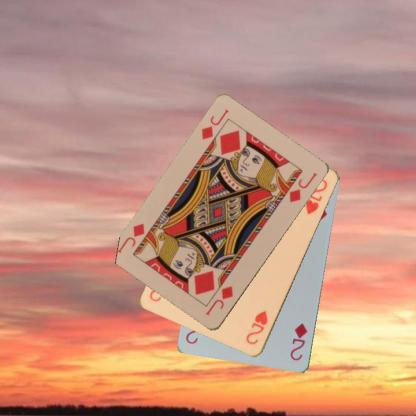2d: (288, 321, 309, 362)
2h: (243, 309, 269, 346)
Jd: (202, 283, 234, 317), (199, 107, 230, 141)
